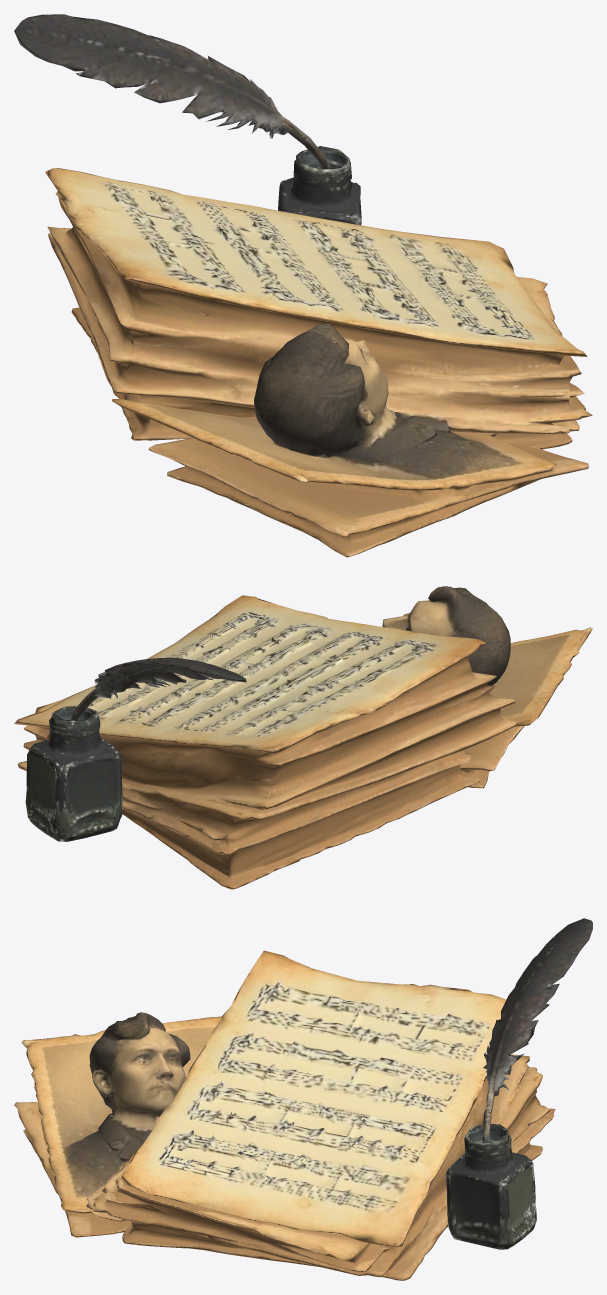
Rendered from Pahimakas-512(10k).glb.
3 views of the same model, one above another, from view 1: azimuth 30°, elevation 25°; view 2: azimuth 150°, elevation 25°; view 3: azimuth 270°, elevation 25° (orthographic). The views are drawn at different scales.
Parts seen in each view (by area): view 1: tripo_node_ad50b15f-cba8-493a-9bf6-51a4a4bfd048; view 2: tripo_node_ad50b15f-cba8-493a-9bf6-51a4a4bfd048; view 3: tripo_node_ad50b15f-cba8-493a-9bf6-51a4a4bfd048.
Boxes of the visible parts, x1=… form: tripo_node_ad50b15f-cba8-493a-9bf6-51a4a4bfd048: x1=14, y1=14, x2=592, y2=557; tripo_node_ad50b15f-cba8-493a-9bf6-51a4a4bfd048: x1=14, y1=586, x2=592, y2=889; tripo_node_ad50b15f-cba8-493a-9bf6-51a4a4bfd048: x1=14, y1=918, x2=592, y2=1280.
Bounding box in the file's own units: 0.794 × 0.4169 × 0.9772.
Materials: 1 (1 with a texture image).
